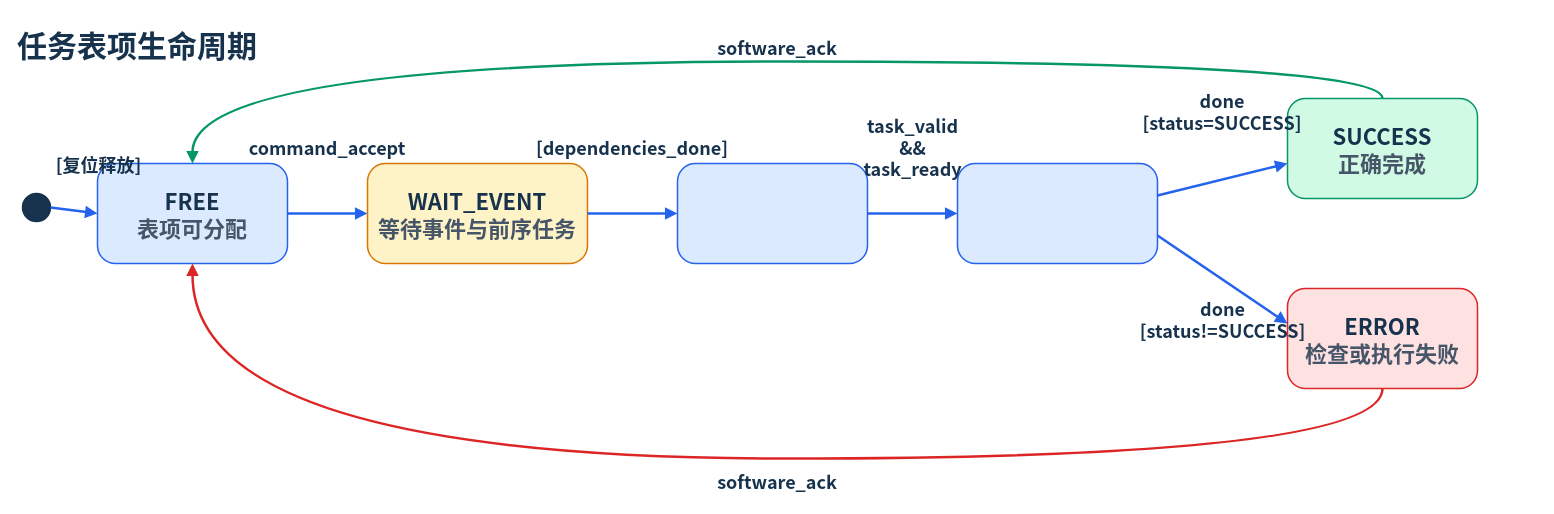
Some shapes in this 1554 by 514 pixel diagram are drawn without their labels. The centre of each missing label's shape, as x and y in pixels:
READY 满足发射条件: the point at 772,213
RUNNING 执行单元已接收: the point at 1057,213
